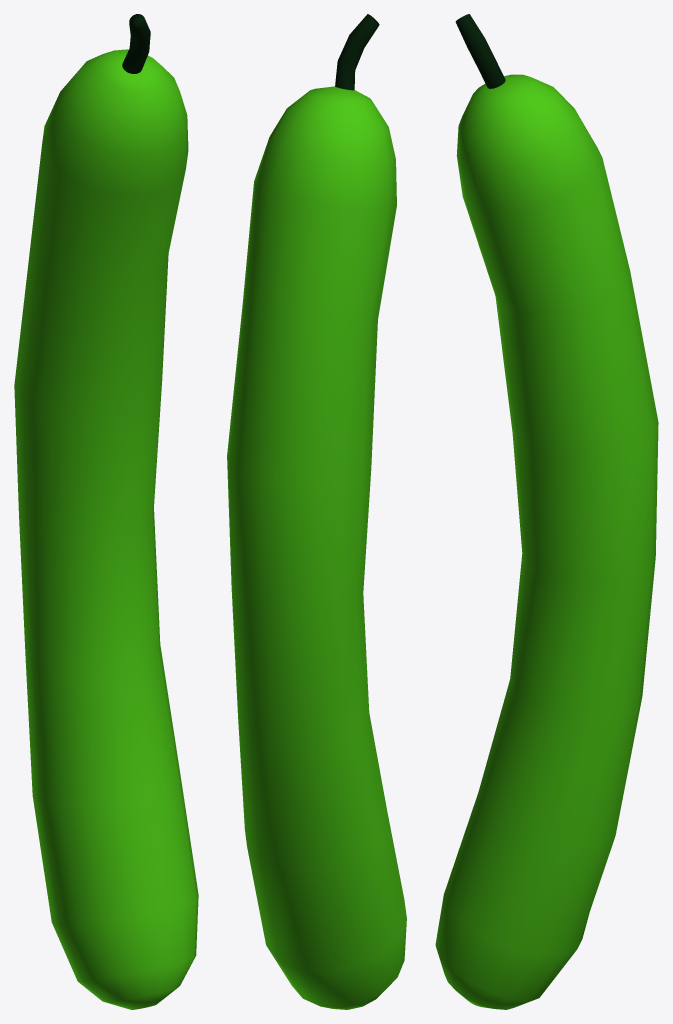
Rendered from Cucumber.fbx.
The picture shows the model from 3 angles, left to right: view 1: azimuth 30°, elevation 25°; view 2: azimuth 150°, elevation 25°; view 3: azimuth 270°, elevation 25°; orthographic projection. The views are drawn at different scales.
Parts seen in each view (by area): view 1: Cucumber; view 2: Cucumber; view 3: Cucumber.
Part boxes in pixels (box(x1,y1,x2,y2)): Cucumber: box(14, 14, 198, 1009); Cucumber: box(227, 14, 406, 1009); Cucumber: box(435, 14, 658, 1009).
Bounding box in the file's own units: 5.75 × 8.72 × 42.53.
